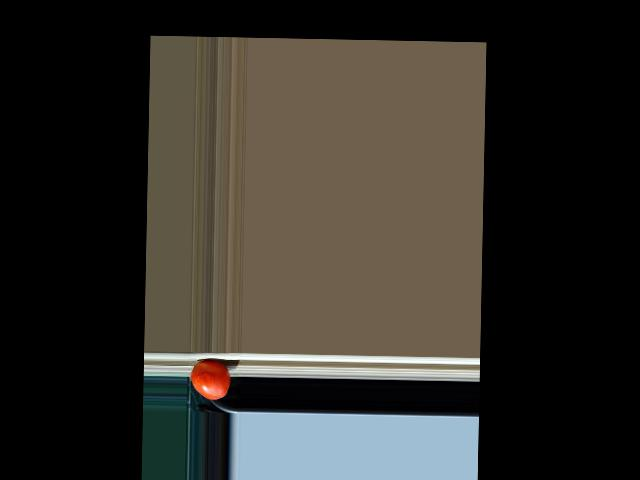tomato: (190, 360, 230, 400)
